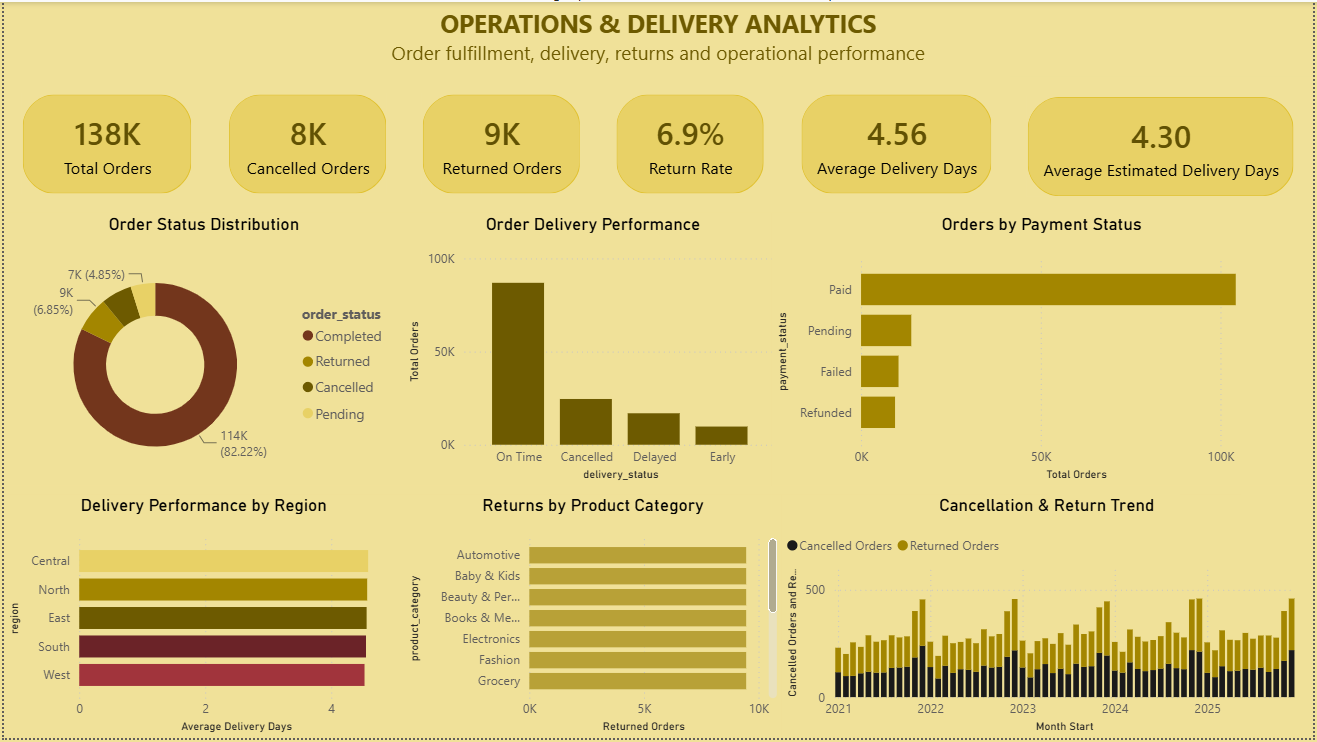

The page's visual inventory and layout, read from the dashboard file:
{"tool":"powerbi","page":{"name":"Operations & Delivery Analytics","canvas":[1280,720],"ordinal":4},"visuals":[{"type":"textbox","box":[0,0,1280,72.5],"z":0},{"type":"cardVisual","fields":{"Data":["_Measure.Total Orders"]},"box":[0,72.5,201.2,133.8],"z":1000},{"type":"cardVisual","fields":{"Data":["_Measure.Cancelled Orders"]},"box":[201.2,72.5,190,133.8],"z":2000},{"type":"cardVisual","fields":{"Data":["_Measure.Return Rate"]},"box":[581.2,72.5,180,133.8],"z":3000},{"type":"cardVisual","fields":{"Data":["_Measure.Returned Orders"]},"box":[391.2,72.5,190,133.8],"z":4000},{"type":"cardVisual","fields":{"Data":["_Measure.Average Estimated Delivery Days"]},"box":[983.8,75,296.2,133.8],"z":5000},{"type":"cardVisual","fields":{"Data":["_Measure.Average Delivery Days"]},"box":[761.2,72.5,222.5,133.8],"z":6000},{"type":"donutChart","title":"Order Status Distribution","fields":{"Category":["ecommerce_sales_customer_analytics_150k.order_status"],"Y":["_Measure.Total Orders"]},"box":[0,206.2,391.2,266.2],"z":7000},{"type":"columnChart","title":"Order Delivery Performance","fields":{"Category":["ecommerce_sales_customer_analytics_150k.delivery_status"],"Y":["_Measure.Total Orders"]},"box":[391.2,206.2,370,266.2],"z":8000},{"type":"clusteredBarChart","title":"Orders by Payment Status","fields":{"Category":["ecommerce_sales_customer_analytics_150k.payment_status"],"Y":["_Measure.Total Orders"]},"box":[751.2,206.2,528.8,266.2],"z":9000},{"type":"clusteredBarChart","title":"Delivery Performance by Region","fields":{"Category":["ecommerce_sales_customer_analytics_150k.region"],"Y":["_Measure.Average Delivery Days"]},"box":[0,482,391,238],"z":10000},{"type":"clusteredBarChart","title":"Returns by Product Category","fields":{"Category":["product_catalog.product_category"],"Y":["_Measure.Returned Orders"]},"box":[391,482,370,238],"z":11000},{"type":"lineStackedColumnComboChart","title":"Cancellation & Return Trend","fields":{"Category":["DateTable.Month Start"],"Y":["_Measure.Cancelled Orders","_Measure.Returned Orders"]},"box":[761,482,519,238],"z":12000}]}

Visuals, with their boxes in screenshot pixels (x1, y1, x2, y2), scaled from the page's 1280x720 canvas onto the 1317x742 screenshot:
textbox: 0/0/1316/75
cardVisual - _Measure.Total Orders: 0/75/207/213
cardVisual - _Measure.Cancelled Orders: 207/75/403/213
cardVisual - _Measure.Return Rate: 598/75/783/213
cardVisual - _Measure.Returned Orders: 403/75/598/213
cardVisual - _Measure.Average Estimated Delivery Days: 1012/77/1316/215
cardVisual - _Measure.Average Delivery Days: 783/75/1012/213
"Order Status Distribution" donutChart: 0/213/403/487
"Order Delivery Performance" columnChart: 403/213/783/487
"Orders by Payment Status" clusteredBarChart: 773/213/1316/487
"Delivery Performance by Region" clusteredBarChart: 0/497/402/741
"Returns by Product Category" clusteredBarChart: 402/497/783/741
"Cancellation & Return Trend" lineStackedColumnComboChart: 783/497/1316/741
